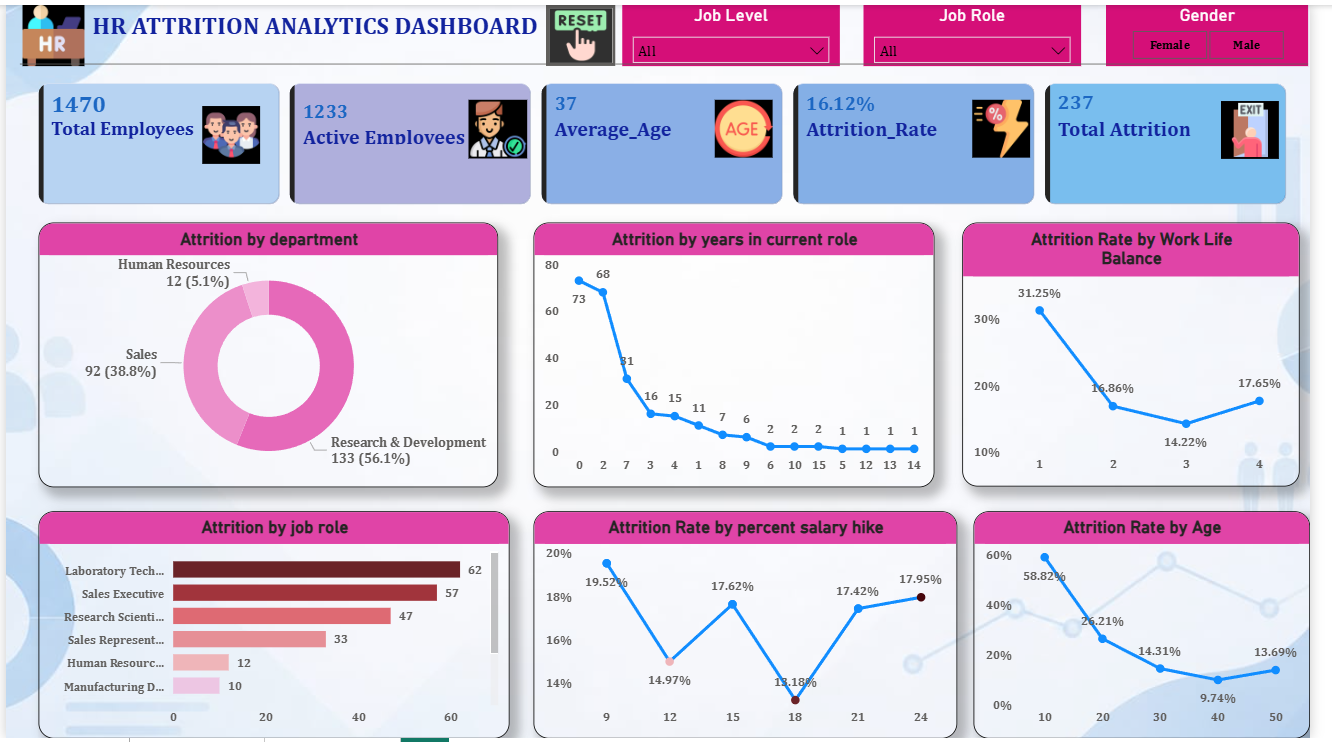

This screenshot's page, from the dashboard's own definition file:
{"tool":"powerbi","page":{"name":"Dashboard 1 ","canvas":[1280,720],"ordinal":0},"visuals":[{"type":"cardVisual","fields":{"Data":["CountNonNull(public hr_analysis.employee_number)","public hr_analysis.Attrition_no","public hr_analysis.Average_Age","public hr_analysis.Attrition_Rate","public hr_analysis.Attrition_yes"]},"box":[13.5,52.8,1265,160.7],"z":0,"group":"g1"},{"type":"donutChart","title":"Attrition by department","fields":{"Category":["public hr_analysis.department"],"Y":["public hr_analysis.Attrition_yes"]},"box":[31.9,213.5,451.5,260.1],"z":0},{"type":"clusteredBarChart","title":"Attrition by  job role","fields":{"Category":["public hr_analysis.job_role"],"Y":["public hr_analysis.Attrition_yes"]},"box":[31.9,496.9,462.6,223.3],"z":1000},{"type":"clusteredColumnChart","title":"Attrition by years in current role","fields":{"Category":["public hr_analysis.years_in_currentrole"],"Y":["public hr_analysis.Attrition_Rate"]},"box":[517.8,213.5,393.9,260.1],"z":2000},{"type":"textbox","box":[0,0,1278.5,73.6],"z":3000},{"type":"image","box":[9.8,0,73.6,60.1],"z":4000},{"type":"lineChart","title":"Attrition Rate by percent salary hike ","fields":{"Category":["public hr_analysis.percent_salary_hike (bins)"],"Y":["public hr_analysis.Attrition_Rate"]},"box":[517.8,496.9,416,223.3],"z":5000},{"type":"slicer","title":"Gender","fields":{"Values":["public hr_analysis.gender"]},"box":[1079.8,0,198.8,60.1],"z":6000},{"type":"slicer","title":"Job Role","fields":{"Values":["public hr_analysis.job_role"]},"box":[842.3,0,213.5,60.1],"z":7000},{"type":"slicer","title":"Job Level","fields":{"Values":["public hr_analysis.job_level"]},"box":[604.9,0,213.5,60.1],"z":8000},{"type":"group","id":"g1","title":"Group 1","box":[13.5,52.8,1265,160.7],"z":9000},{"type":"lineChart","title":"Attrition Rate by Work Life Balance ","fields":{"Category":["public hr_analysis.work_life_balance"],"Y":["public hr_analysis.Attrition_Rate"]},"box":[948.5,213.5,331.3,258.9],"z":10000},{"type":"lineChart","title":" Attrition Rate by Age ","fields":{"Y":["public hr_analysis.Attrition_Rate"],"Category":["public hr_analysis.age (bins)"]},"box":[949.7,496.9,330.1,223.3],"z":11000},{"type":"actionButton","box":[530.1,0,68.2,59.8],"z":12000},{"type":"image","box":[192.6,89.6,57,76],"z":14000,"group":"g1"},{"type":"image","box":[454,83.5,57.7,76.1],"z":15000,"group":"g1"},{"type":"image","box":[695.7,83.5,56.4,76.1],"z":16000,"group":"g1"},{"type":"image","box":[948.5,83.5,56.4,76.1],"z":17000,"group":"g1"},{"type":"image","box":[1192.6,84.7,56.4,76.1],"z":18000,"group":"g1"}]}

Visuals, with their boxes in screenshot pixels (x1, y1, x2, y2), scaled from the page's 1280x720 canvas onto the 1332x742 screenshot:
cardVisual - CountNonNull(public hr_analysis.employee_number) x public hr_analysis.Attrition_no: [14, 54, 1330, 220]
"Attrition by department" donutChart: [33, 220, 503, 488]
"Attrition by  job role" clusteredBarChart: [33, 512, 515, 741]
"Attrition by years in current role" clusteredColumnChart: [539, 220, 949, 488]
textbox: [0, 0, 1330, 76]
image: [10, 0, 87, 62]
"Attrition Rate by percent salary hike " lineChart: [539, 512, 972, 741]
"Gender" slicer: [1124, 0, 1331, 62]
"Job Role" slicer: [877, 0, 1099, 62]
"Job Level" slicer: [629, 0, 852, 62]
"Group 1" group: [14, 54, 1330, 220]
"Attrition Rate by Work Life Balance " lineChart: [987, 220, 1331, 487]
" Attrition Rate by Age " lineChart: [988, 512, 1331, 741]
actionButton: [552, 0, 623, 62]
image: [200, 92, 260, 171]
image: [472, 86, 532, 164]
image: [724, 86, 783, 164]
image: [987, 86, 1046, 164]
image: [1241, 87, 1300, 166]
